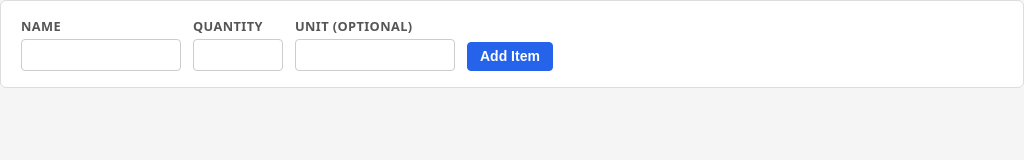
it: AddItemForm validation › blocks submission when quantity is zero
Step 1. Type "Tea" into the field labelled "Name" → (101, 55), box left=21, top=39, right=181, bottom=71
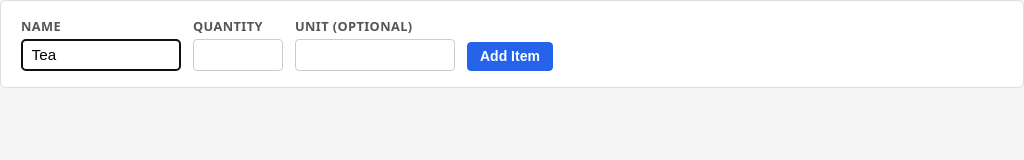
Step 2. Type "0" into the number field labelled "Quantity" → (238, 55), box left=193, top=39, right=283, bottom=71
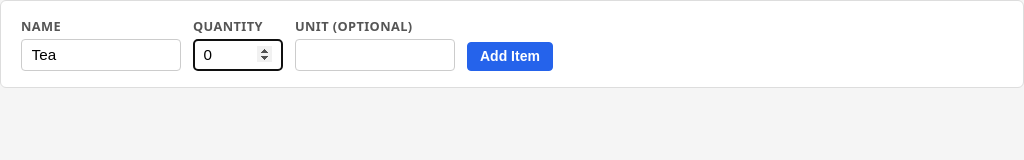
Step 3. Click the button "Add Item" → click(510, 56), box left=467, top=42, right=553, bottom=71
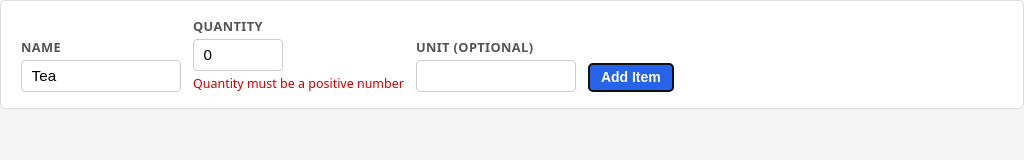
Check: the text "Quantity must be a positive number" is shown, box left=193, top=75, right=404, bottom=92
